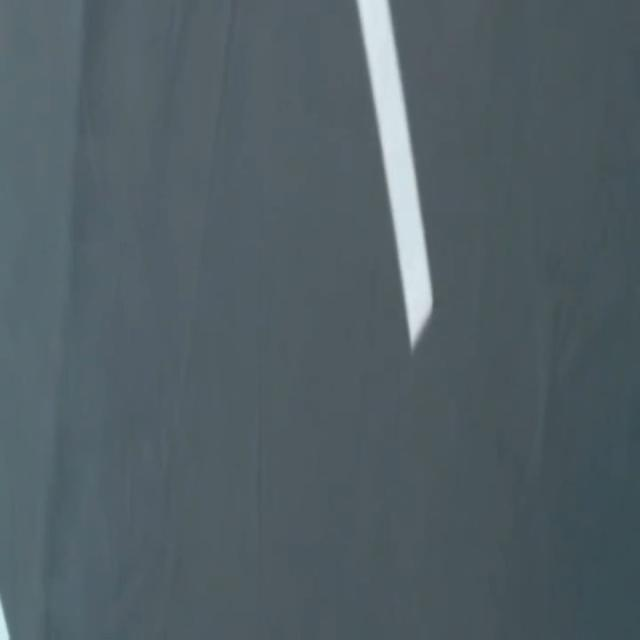center: (356, 0, 433, 350)
left: (0, 599, 10, 639)
